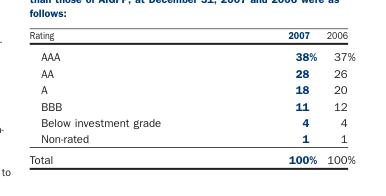table: (28, 28, 354, 165)
table column: (28, 28, 223, 165), (223, 28, 321, 165), (321, 28, 354, 165)
table column header: (28, 28, 354, 44)
table row: (28, 44, 354, 64), (28, 129, 354, 148), (28, 80, 354, 97), (28, 148, 354, 165), (28, 28, 354, 44), (28, 64, 354, 80), (28, 97, 354, 113), (28, 113, 354, 129)
